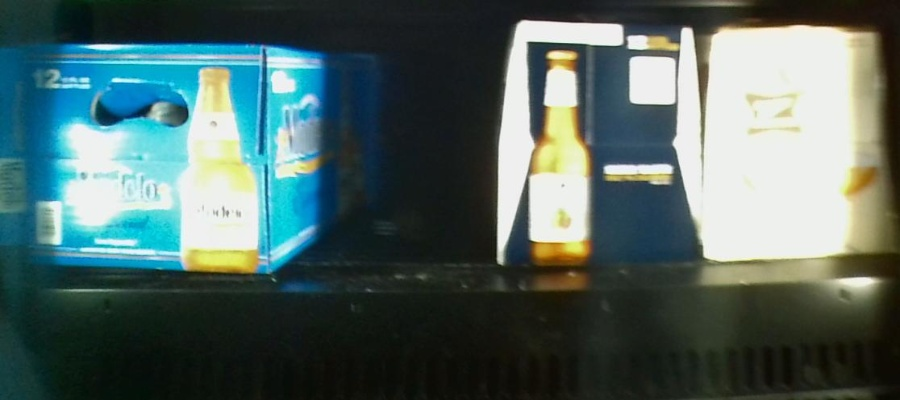bottle: (13, 49, 345, 262), (501, 19, 705, 264), (707, 25, 900, 260)
